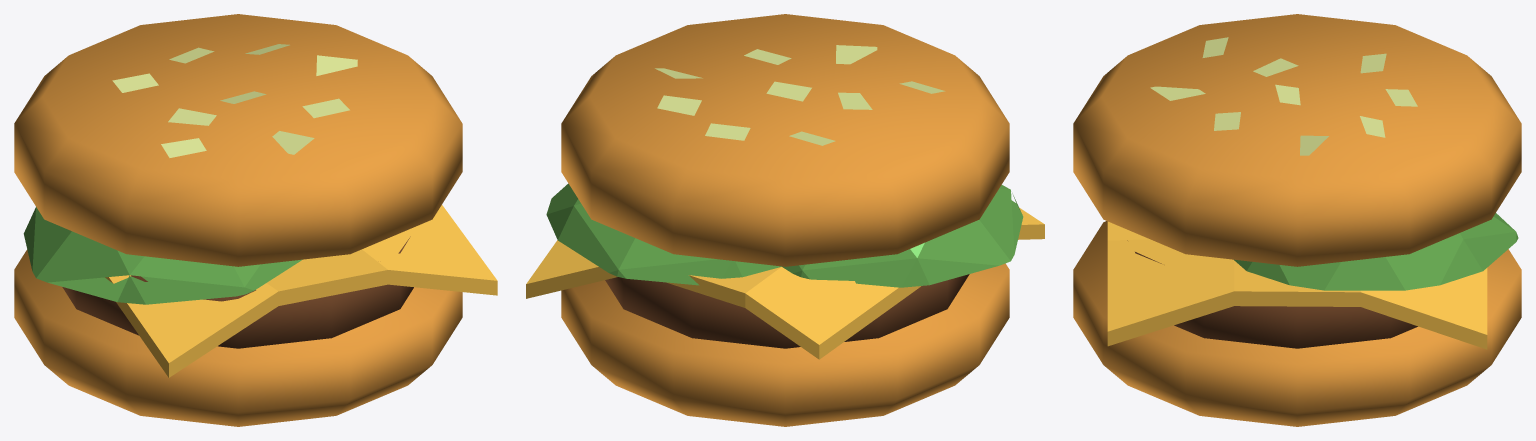
The model's file is Burger(Lettuce).glb.
The picture shows the model from 3 angles, left to right: view 1: azimuth 30°, elevation 25°; view 2: azimuth 150°, elevation 25°; view 3: azimuth 270°, elevation 25°; orthographic projection.
Visible parts, largest first — view 1: Cylinder.023; view 2: Cylinder.023; view 3: Cylinder.023.
Part boxes in pixels (<box>): Cylinder.023: <box>14,14,497,426</box>; Cylinder.023: <box>526,14,1044,426</box>; Cylinder.023: <box>1073,14,1521,426</box>.
Bounding box in the file's own units: 0.4958 × 0.2952 × 0.4718.
